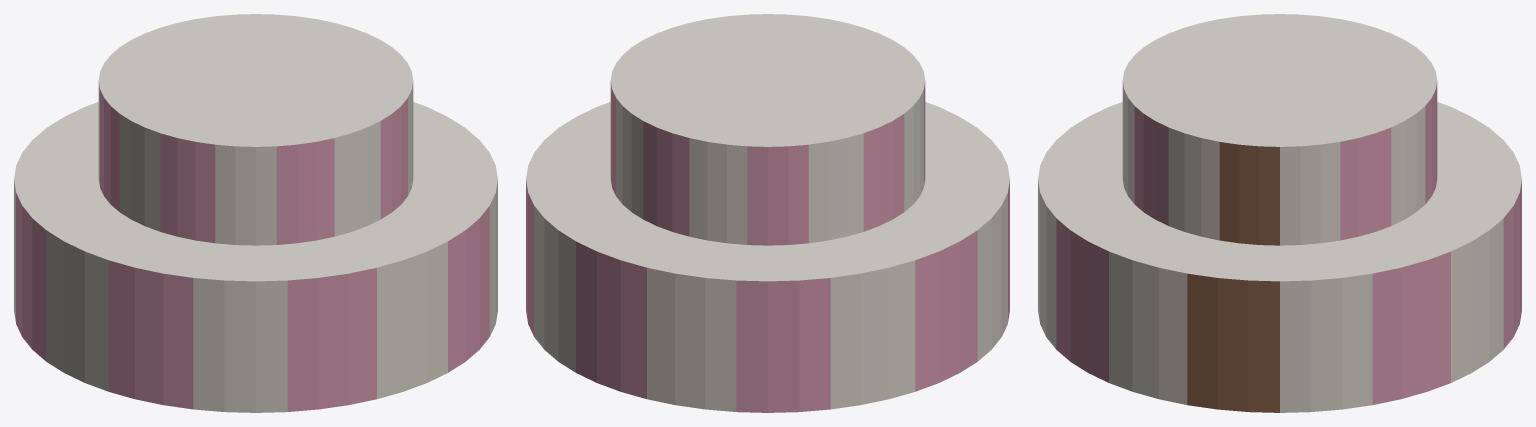
3 renders of one model, left to right at view 1: azimuth 30°, elevation 25°; view 2: azimuth 150°, elevation 25°; view 3: azimuth 270°, elevation 25°, orthographic.
Size of the model in its own units: 2 by 1.05 by 2.
